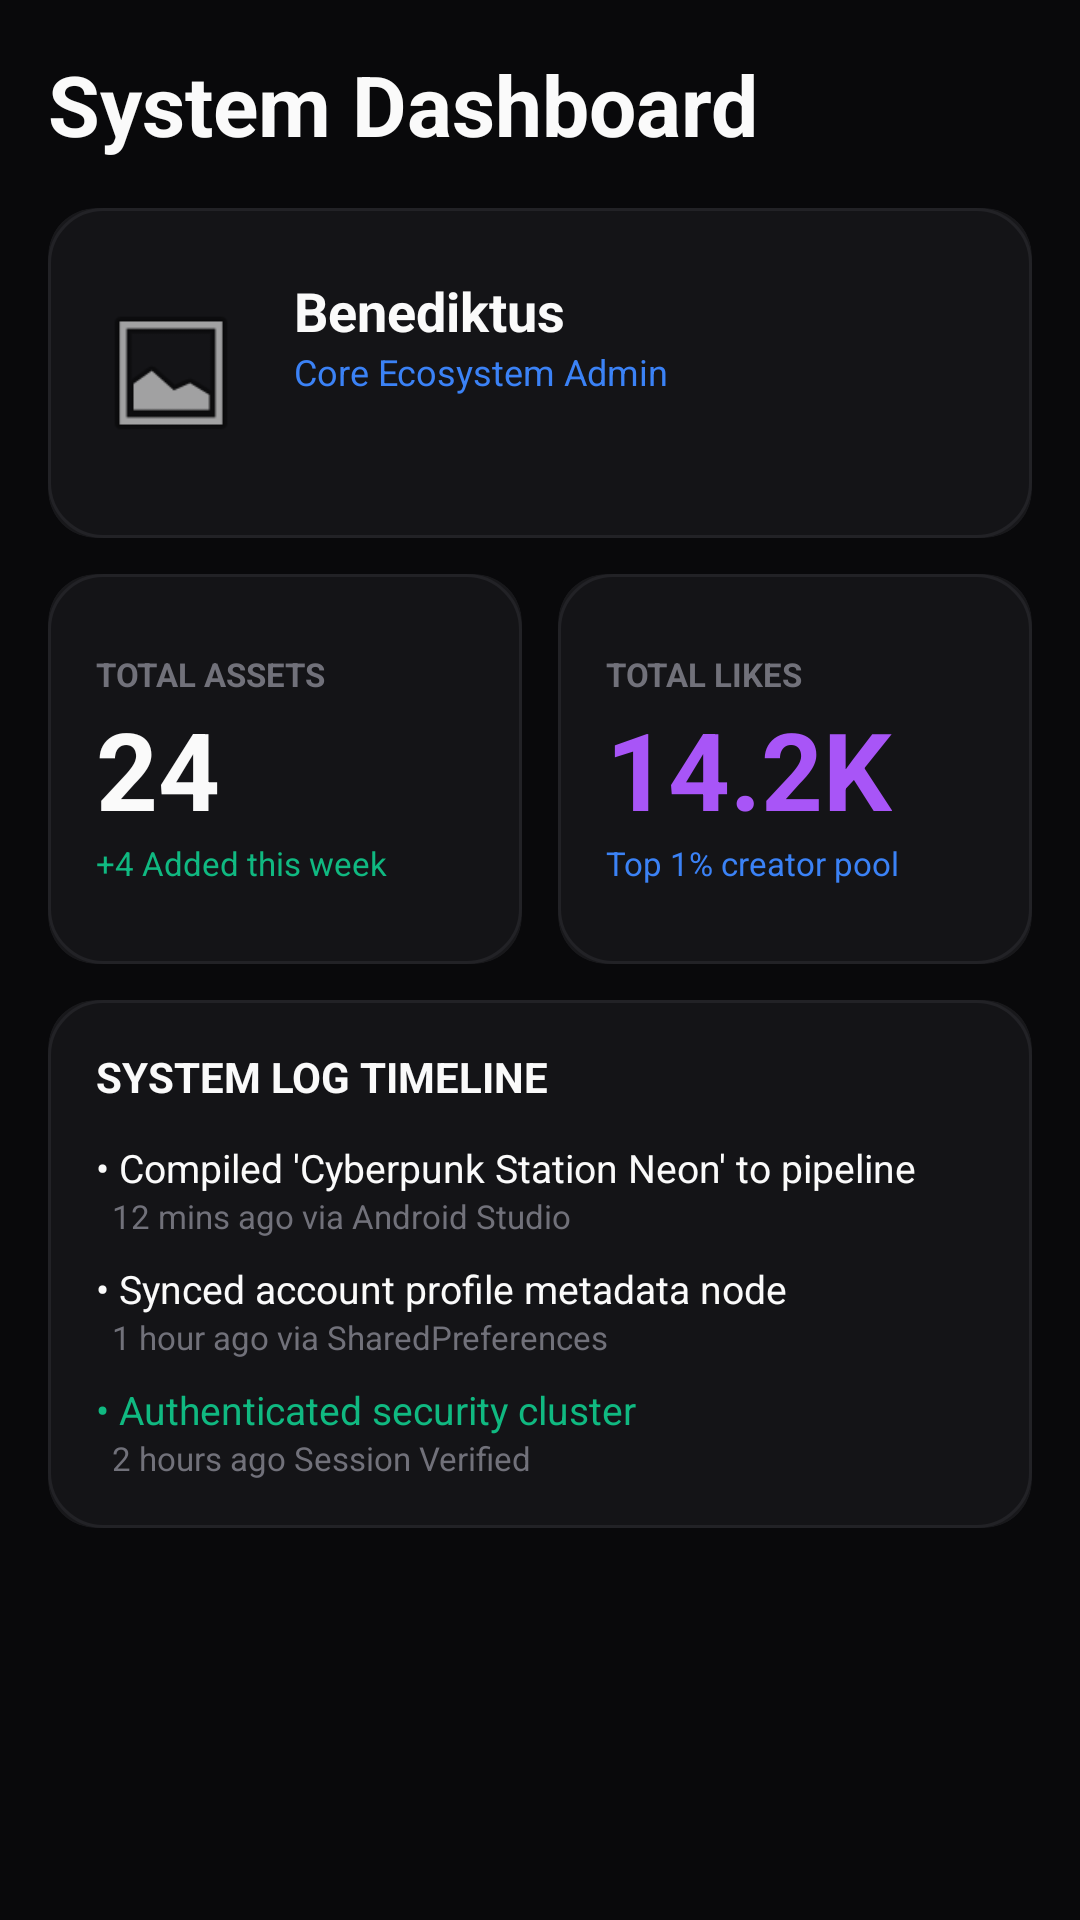

Icon click points for this 1080px x 1920px phone screenshot, format (x,y):
gallery: (171,373)
